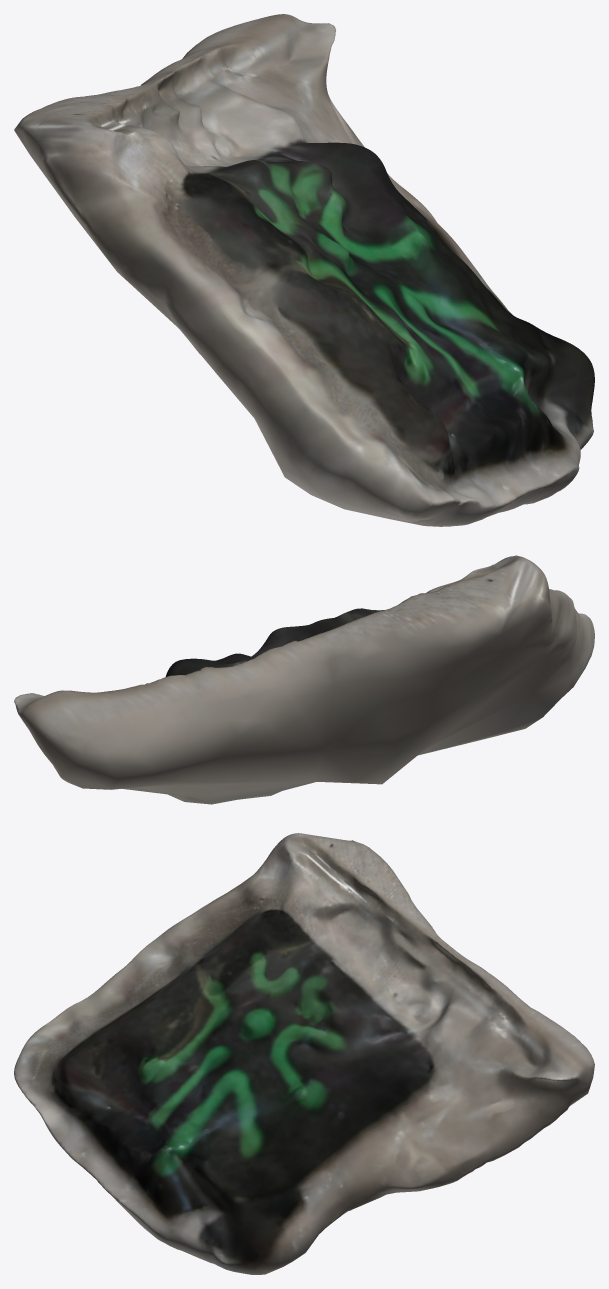
3 views of the same model, one above another, from view 1: azimuth 30°, elevation 25°; view 2: azimuth 150°, elevation 25°; view 3: azimuth 270°, elevation 25° (orthographic). The views are drawn at different scales.
Bounding box in the file's own units: 0.3375 × 0.2562 × 0.4641.
Materials: 1 (1 with a texture image).
